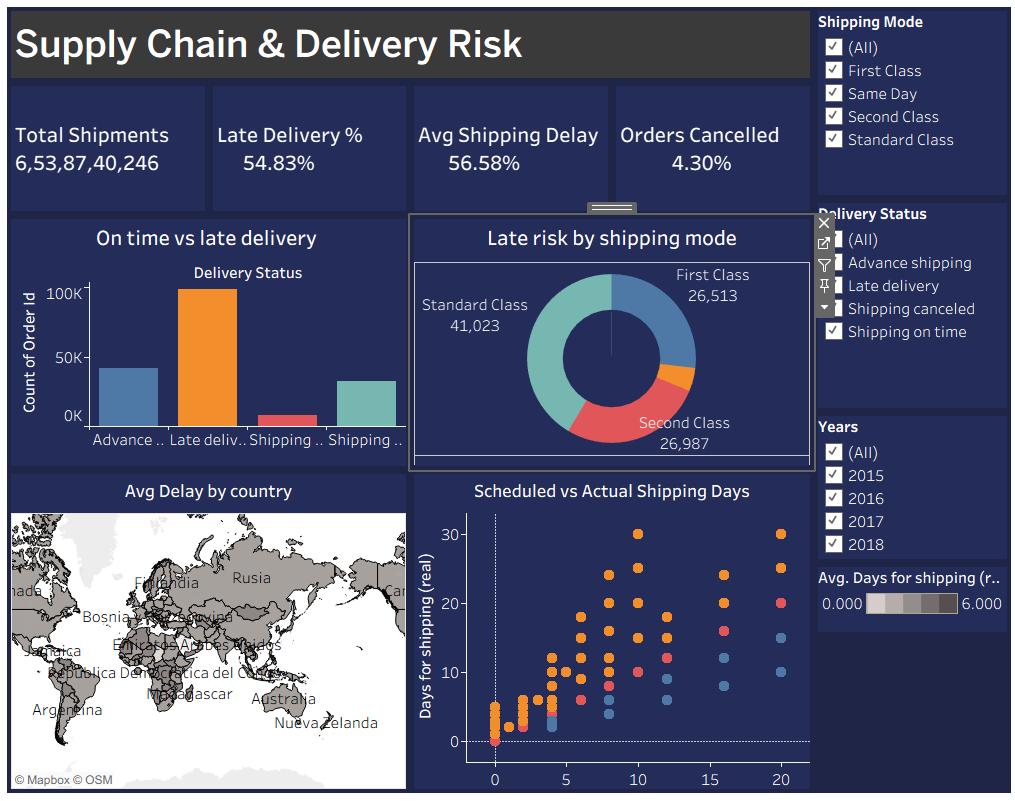

The page's visual inventory and layout, read from the dashboard file:
{"tool":"tableau","page":{"name":"Dashboard 2","canvas":[1000,1000],"units":"permille","ordinal":1},"visuals":[{"type":"text","box":[7.8,10,791.2,93.5]},{"type":"filter","title":"Late risk by shipping mode","param":"[federated.0d3o7rv0djwa3w19wdp9q05zq79m].[none:Shipping Mode:nk]","box":[799,10,193.1,239.4]},{"type":"worksheet","title":"Total Shipments","mark":"Automatic","box":[7.8,103.5,197.8,165.8]},{"type":"worksheet","title":"Late Delivery %","mark":"Automatic","box":[205.6,103.5,197.8,165.8]},{"type":"worksheet","title":"Avg Shipping Delay","mark":"Automatic","box":[403.4,103.5,197.8,165.8]},{"type":"worksheet","title":"Cancelled orders","mark":"Automatic","box":[601.2,103.5,197.8,165.8]},{"type":"filter","title":"Scheduled vs Actual Shipping Days","param":"[federated.0d3o7rv0djwa3w19wdp9q05zq79m].[none:Delivery Status:nk]","box":[799,249.4,193.1,265.6]},{"type":"worksheet","title":"On time vs late delivery ","mark":"Bar","rows":["Order Id"],"cols":["Delivery Status"],"box":[7.8,269.3,395.1,318]},{"type":"worksheet","title":"Late risk by shipping mode","mark":"Pie","cols":["Calculation_0544007214747649","Calculation_0544007214747649"],"box":[402.9,269.3,396.1,318]},{"type":"filter","title":"Avg Delay by country","param":"[federated.0d3o7rv0djwa3w19wdp9q05zq79m].[yr:order date (DateOrders):ok]","box":[799,515,193.1,188.3]},{"type":"worksheet","title":"Avg Delay by country","mark":"Multipolygon","box":[7.8,587.3,395.1,402.7]},{"type":"worksheet","title":"Scheduled vs Actual Shipping Days","mark":"Circle","rows":["Days for shipping (real)"],"cols":["Days for shipment (scheduled)"],"box":[402.9,587.3,396.1,402.7]},{"type":"legend","title":"Avg Delay by country","param":"[federated.0d3o7rv0djwa3w19wdp9q05zq79m].[avg:Days for shipping (real):qk]","box":[799,703.3,193.1,91]}]}

Visuals, with their boxes on the dashboard's canvas, which has no fixed pixel size, in thousandths of its width and height (x1, y1, x2, y2). These are canvas units, not pixel positions in the 1015x801 screenshot, which may show the page scaled, cropped or inside an application window:
text: bbox=(8, 10, 799, 104)
"Late risk by shipping mode" filter: bbox=(799, 10, 992, 249)
"Total Shipments" worksheet: bbox=(8, 104, 206, 269)
"Late Delivery %" worksheet: bbox=(206, 104, 403, 269)
"Avg Shipping Delay" worksheet: bbox=(403, 104, 601, 269)
"Cancelled orders" worksheet: bbox=(601, 104, 799, 269)
"Scheduled vs Actual Shipping Days" filter: bbox=(799, 249, 992, 515)
"On time vs late delivery " worksheet (Bar marks): bbox=(8, 269, 403, 587)
"Late risk by shipping mode" worksheet (Pie marks): bbox=(403, 269, 799, 587)
"Avg Delay by country" filter: bbox=(799, 515, 992, 703)
"Avg Delay by country" worksheet (Multipolygon marks): bbox=(8, 587, 403, 990)
"Scheduled vs Actual Shipping Days" worksheet (Circle marks): bbox=(403, 587, 799, 990)
"Avg Delay by country" legend: bbox=(799, 703, 992, 794)
